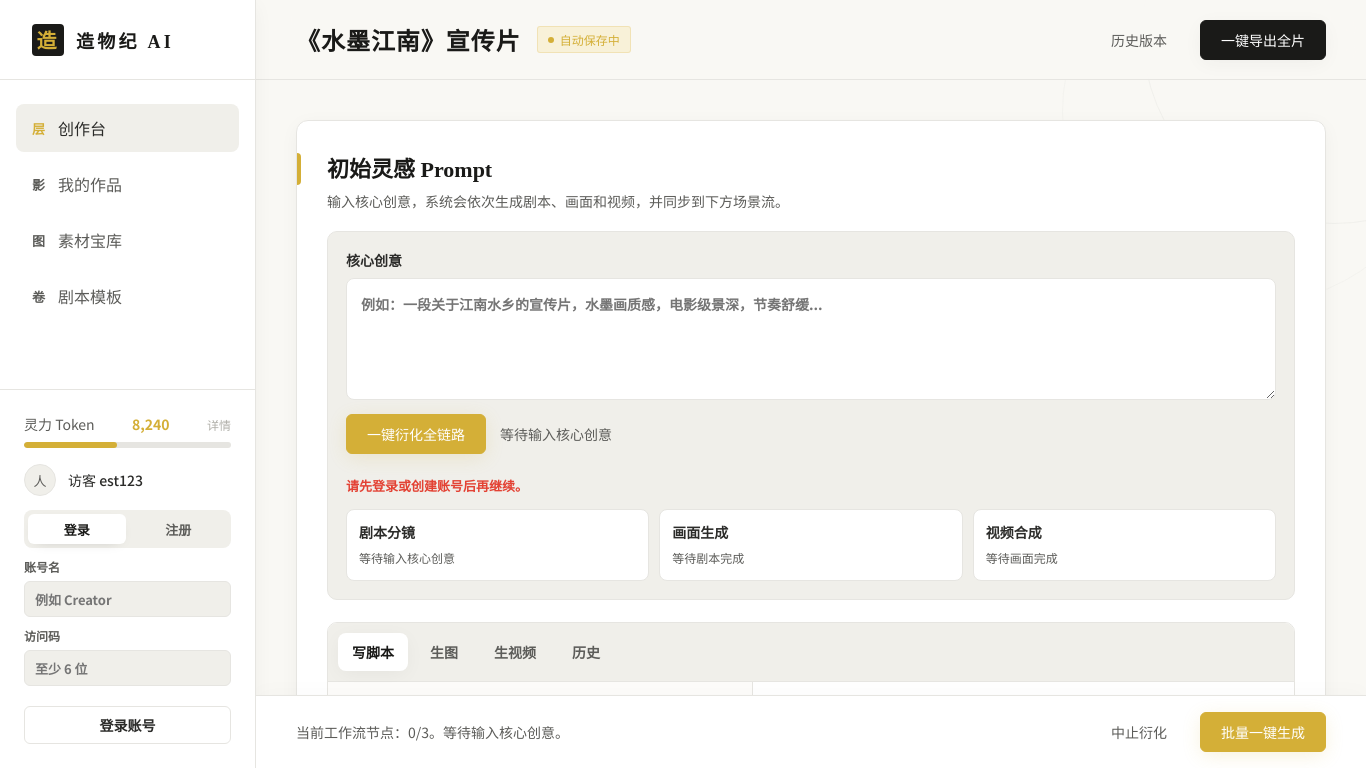
Test case: WorkflowShell › asks visitors to log in before running the pipeline
Expected: the text "访客 est123" is shown, [68, 470, 143, 490]
In the text box labelled "核心创意": (811, 339) [346, 278, 1276, 400], type "水墨江南宣传片"
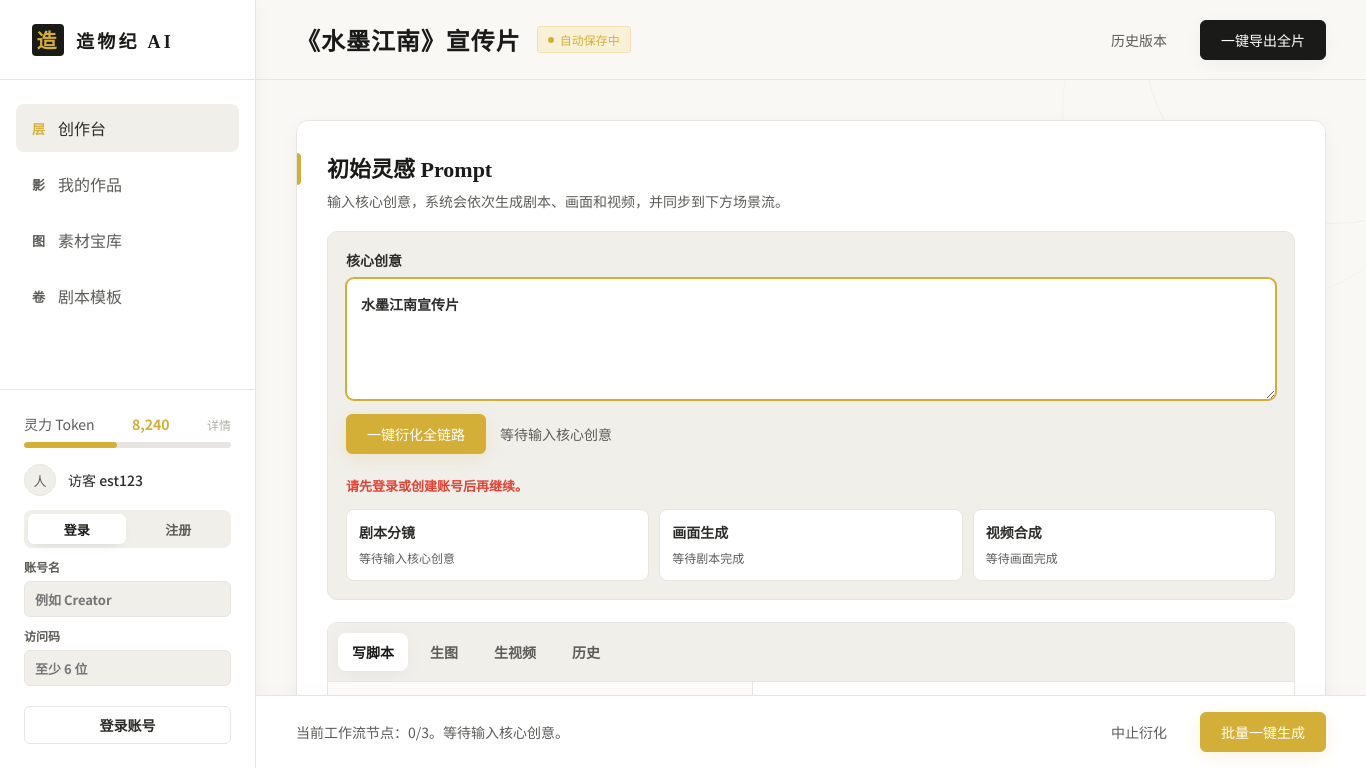
Click the button "一键衍化全链路": (416, 434) [346, 414, 486, 454]
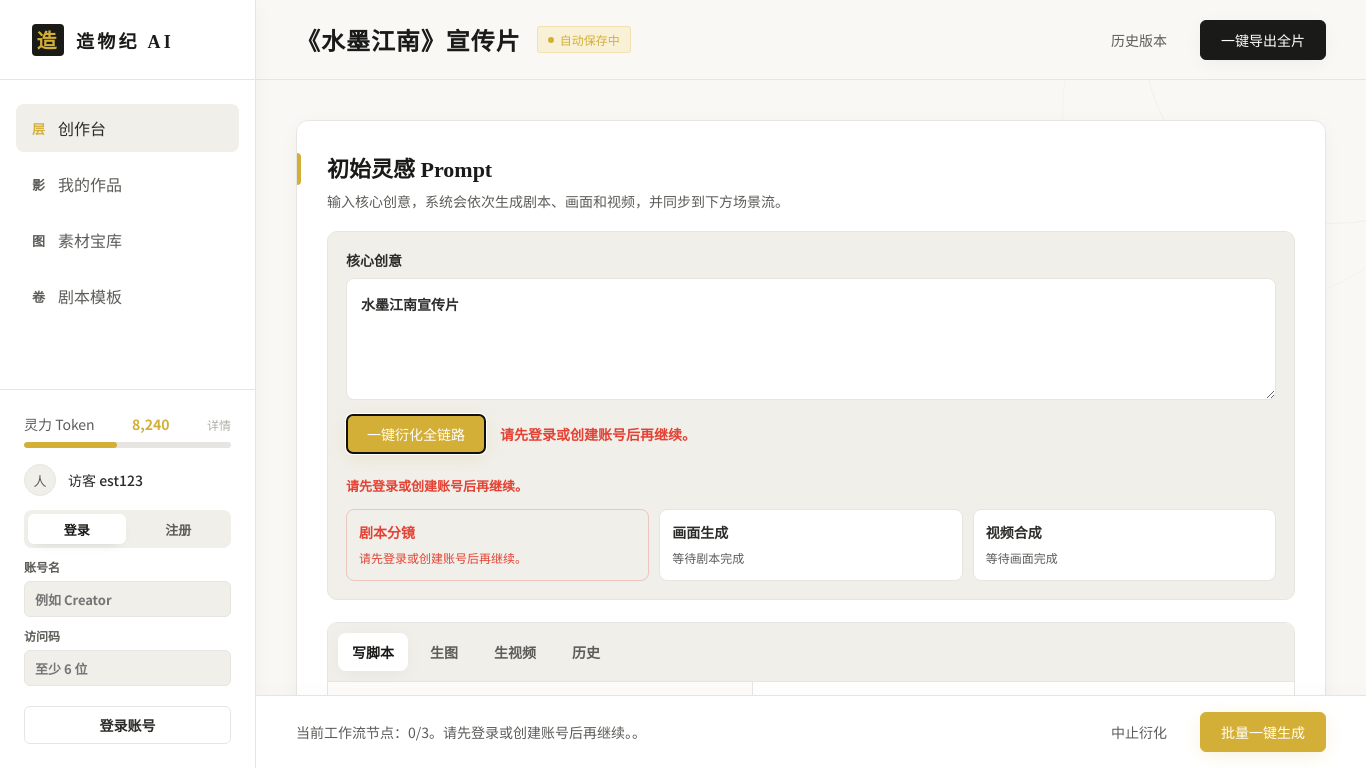
Expected: the 1st text "请先登录或创建账号后再继续。" is shown, [500, 424, 696, 444]
